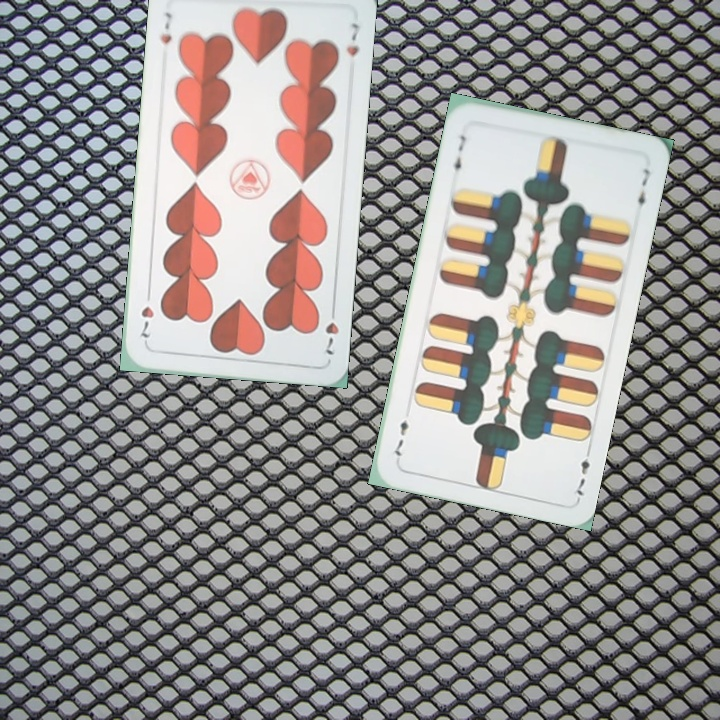E7: (572, 443, 594, 502), (448, 130, 469, 179)
H7: (321, 301, 342, 358), (156, 8, 175, 47)
